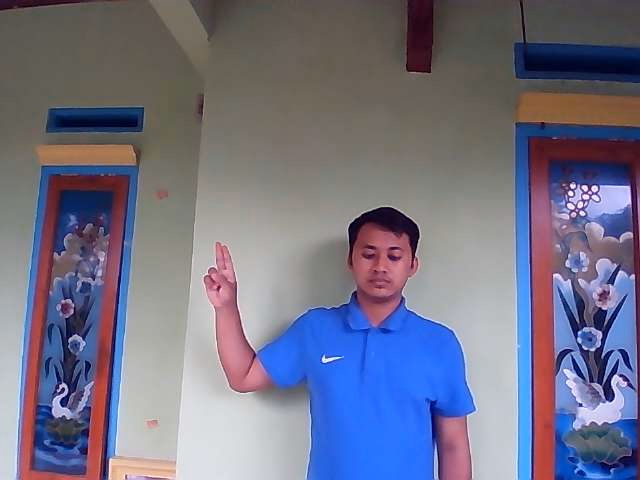U: (203, 241, 236, 306)
